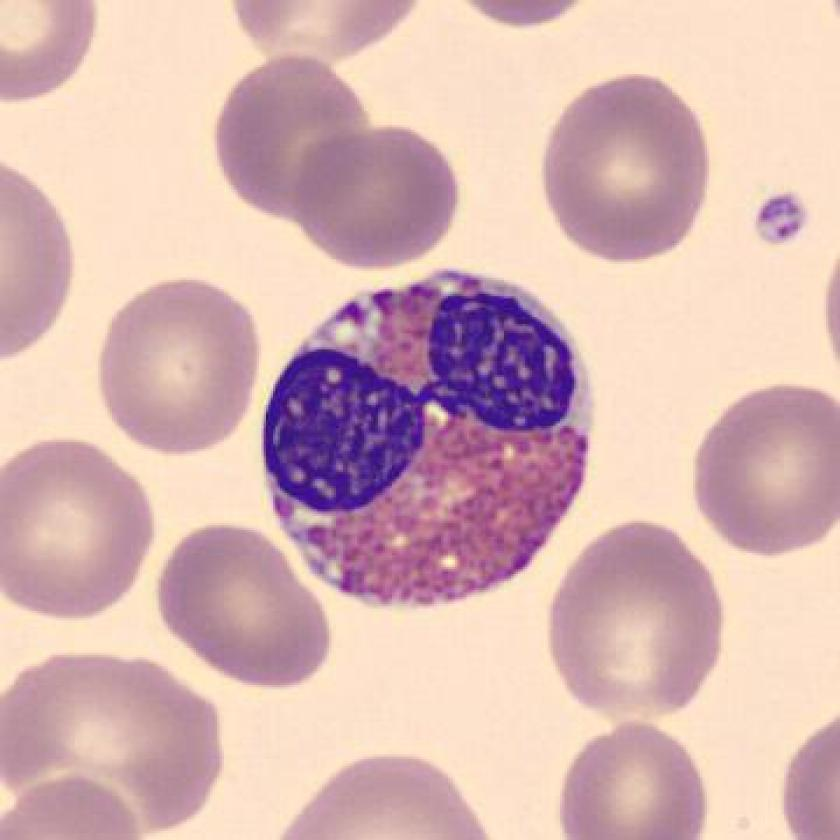eosinophil: (248, 258, 603, 630)
